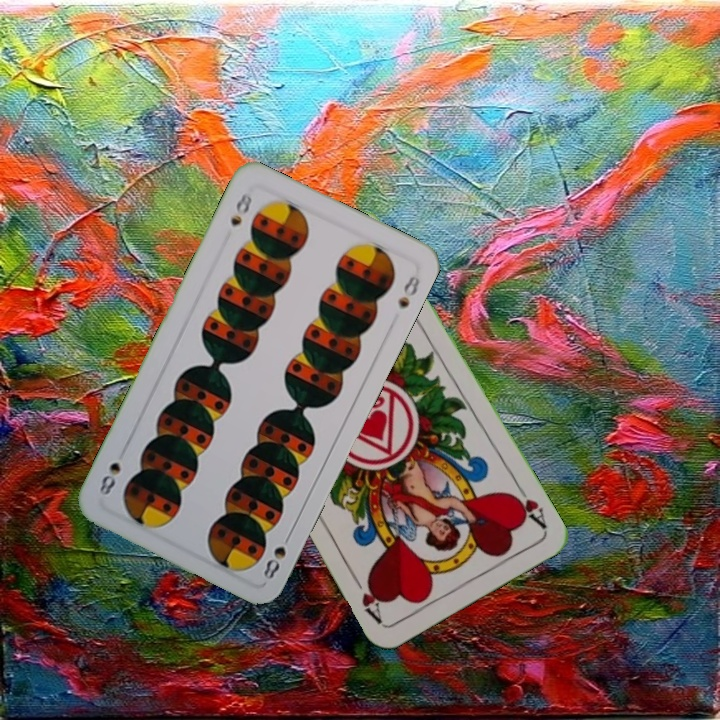HA: (506, 479, 549, 532)
S8: (259, 527, 295, 582), (226, 188, 255, 229)
